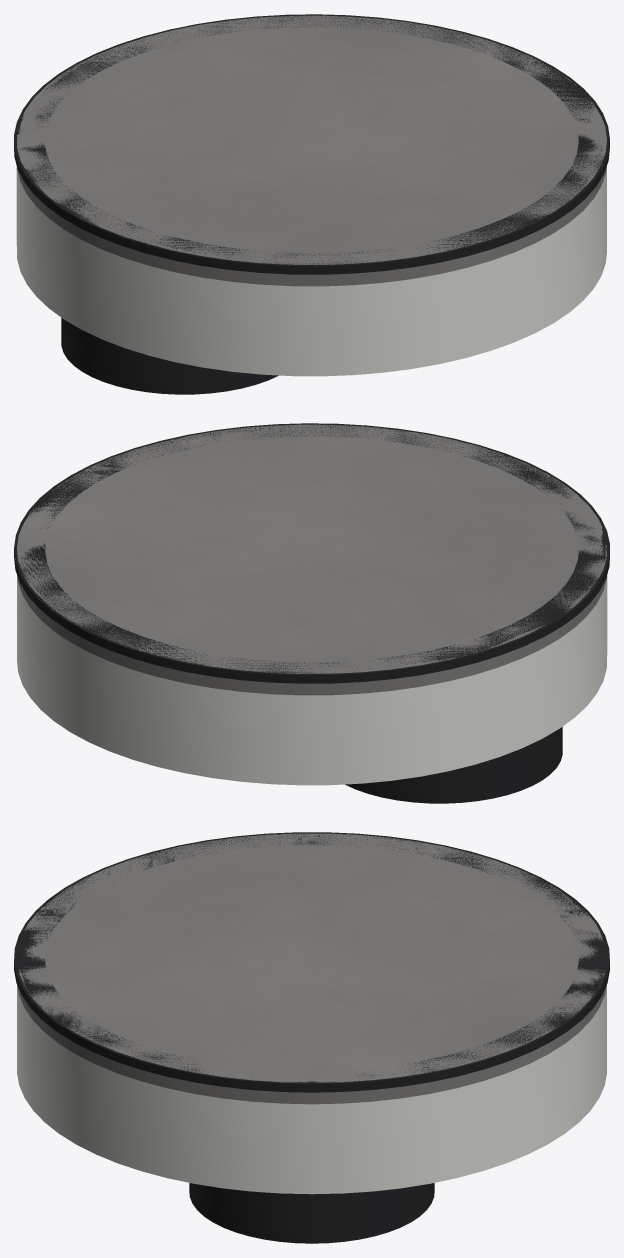
Rendered from stage12_multi_coupler_bi_s_xs.glb.
3 renders of one model, top to bottom at view 1: azimuth 30°, elevation 25°; view 2: azimuth 150°, elevation 25°; view 3: azimuth 270°, elevation 25°, orthographic.
Parts seen in each view (by area): view 1: thrust_plate, skirt, top_flange, engine_mounts; view 2: thrust_plate, skirt, top_flange, engine_mounts; view 3: thrust_plate, skirt, top_flange, engine_mounts.
Part boxes in pixels (bbox=[...]): thrust_plate: bbox=[17, 15, 606, 286]; skirt: bbox=[16, 166, 606, 376]; top_flange: bbox=[14, 14, 609, 274]; engine_mounts: bbox=[61, 318, 278, 394]; thrust_plate: bbox=[17, 424, 606, 695]; skirt: bbox=[17, 575, 607, 785]; top_flange: bbox=[14, 423, 609, 683]; engine_mounts: bbox=[345, 727, 562, 803]; thrust_plate: bbox=[17, 833, 606, 1104]; skirt: bbox=[17, 985, 606, 1194]; top_flange: bbox=[14, 832, 609, 1092]; engine_mounts: bbox=[189, 1183, 434, 1243].
Bounding box in the file's own units: 1.26 × 0.4 × 1.26.
Materials: 4 (2 with a texture image).
